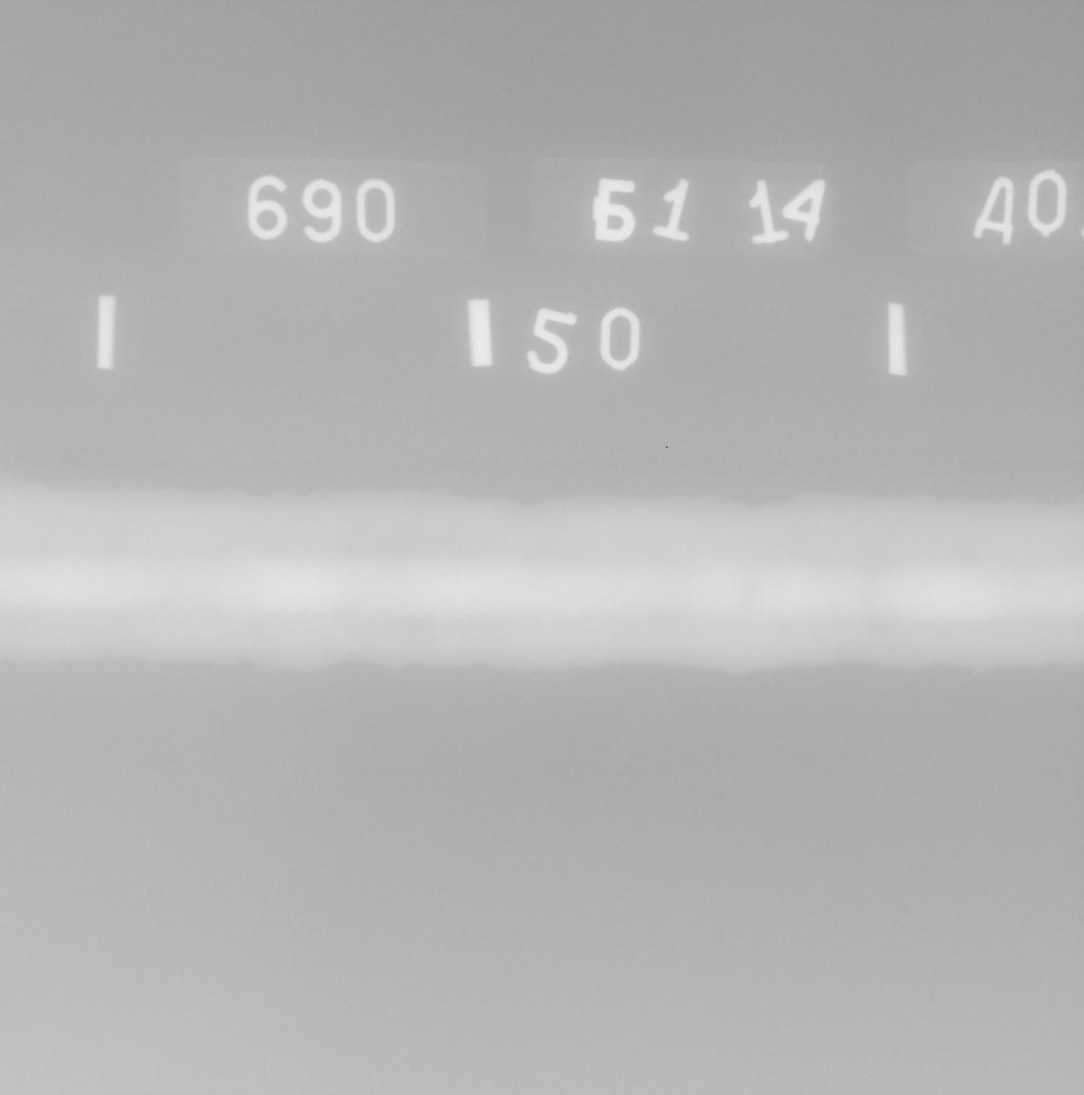Lack of Fusion: (789, 553, 805, 558)
Pore/Porosity: (740, 587, 743, 590)
